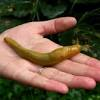slug: (4, 36, 90, 65)
